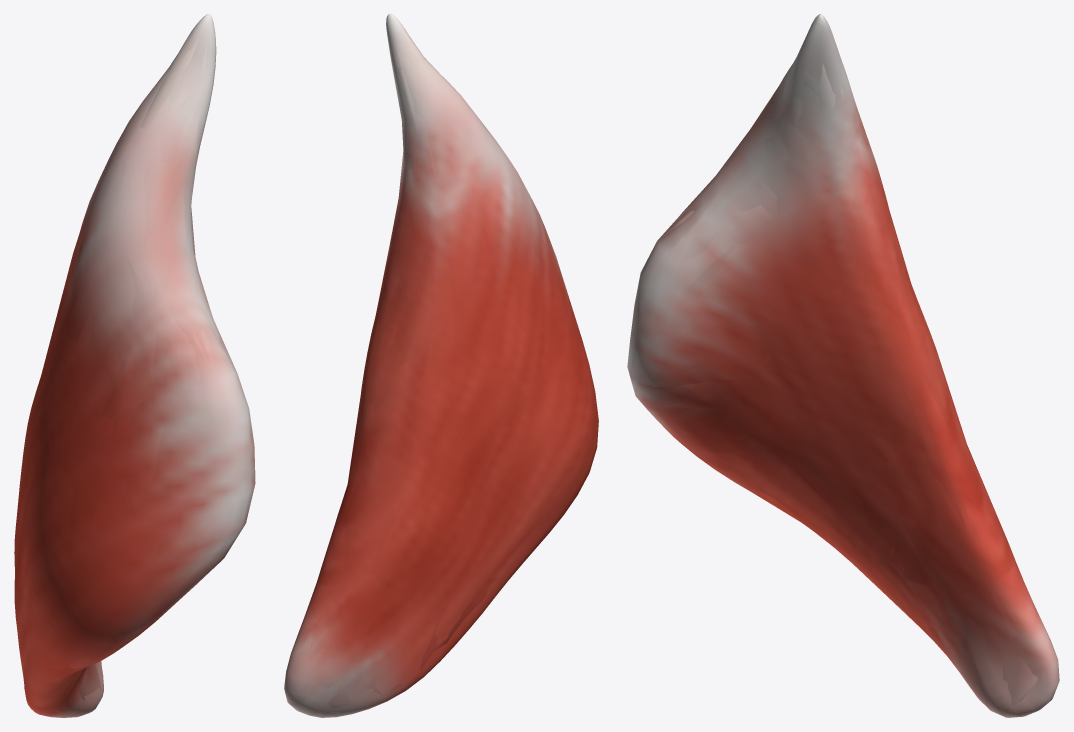
The model's file is R Triceps Brachii Lateral Head.fbx.
The picture shows the model from 3 angles, left to right: view 1: azimuth 30°, elevation 25°; view 2: azimuth 150°, elevation 25°; view 3: azimuth 270°, elevation 25°; orthographic projection. The views are drawn at different scales.
Visible parts, largest first — view 1: R Triceps Brachii Lateral Head, R Triceps Brachii Lateral Head low; view 2: R Triceps Brachii Lateral Head, R Triceps Brachii Lateral Head low; view 3: R Triceps Brachii Lateral Head, R Triceps Brachii Lateral Head low.
Boxes of the visible parts, <box> form: R Triceps Brachii Lateral Head: <box>14,14,255,717</box>; R Triceps Brachii Lateral Head low: <box>14,25,254,712</box>; R Triceps Brachii Lateral Head: <box>284,14,598,717</box>; R Triceps Brachii Lateral Head low: <box>288,32,589,715</box>; R Triceps Brachii Lateral Head: <box>627,14,1059,717</box>; R Triceps Brachii Lateral Head low: <box>633,30,1058,713</box>.
Size of the model in its own units: 10.9 by 39.75 by 21.87.
